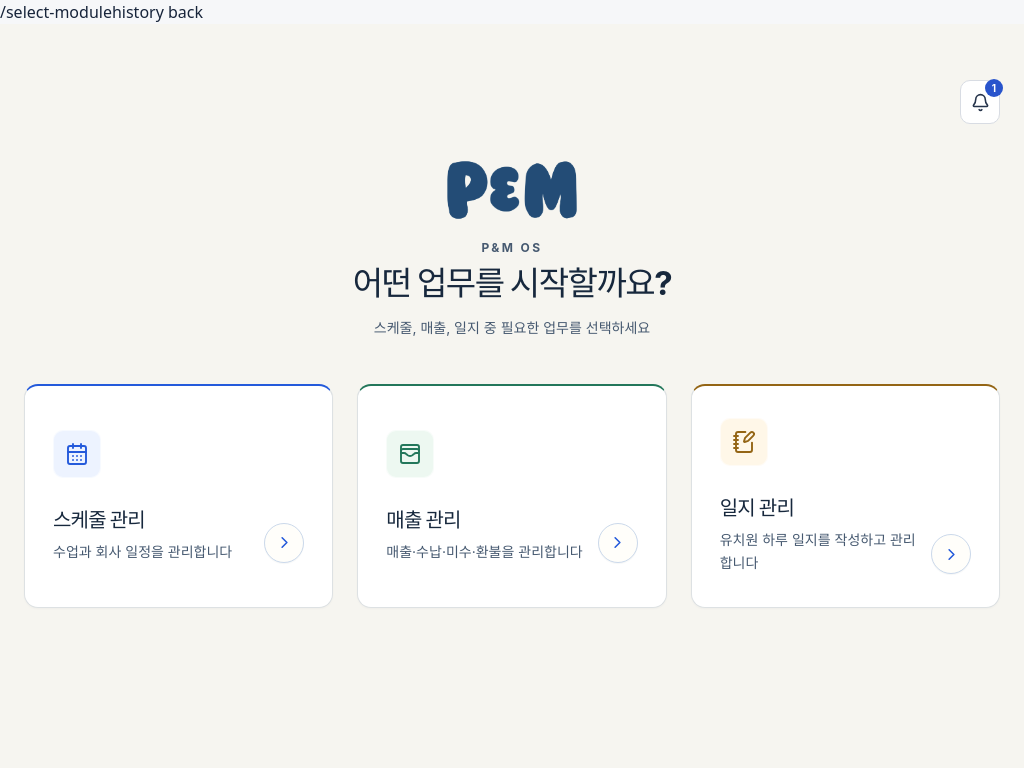
it: read failure preserves Calendar navigation and reports independently
The image size is (1024, 768).
Click the button named "알림센터, 읽지 않은" at [980, 102], box [960,80,1000,124]
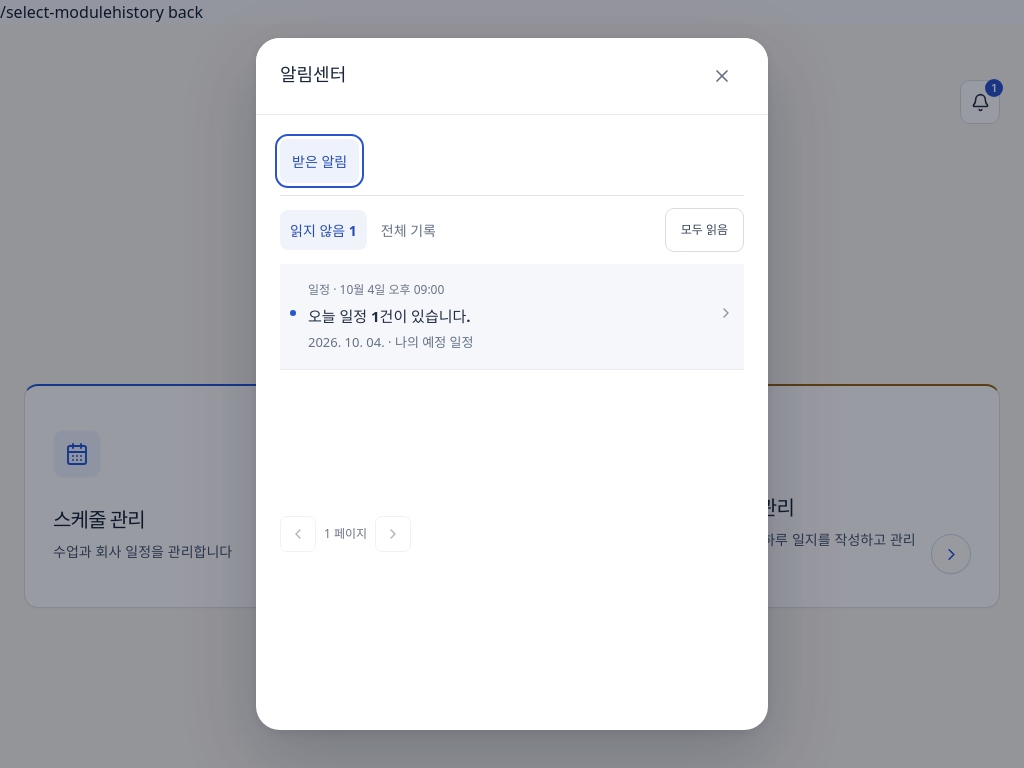
Click the button "오늘 일정 1건" at [392, 290], box [280,264,744,370]
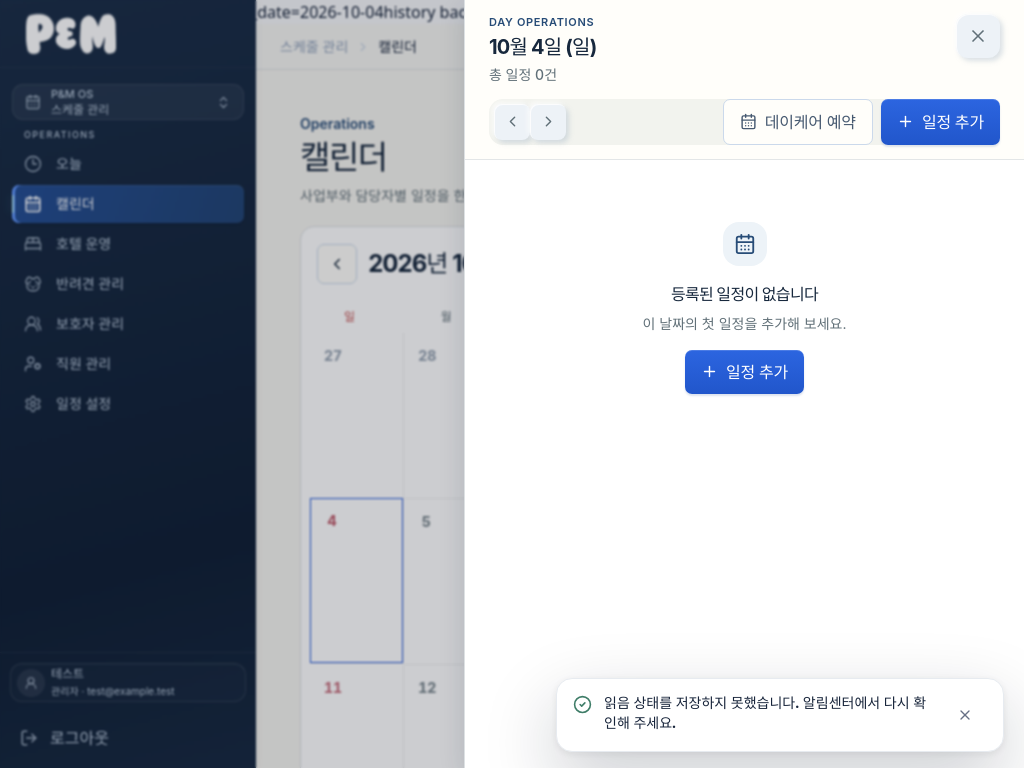
Expected: the text with test id "route" reads "/operations/calendar?notification_date=2026-10-04", [0,1,384,23]
Expected: the dialog "일정" is shown, [464,0,1023,767]
Expected: the text "읽음 상태를 저장하지 못했습니다. 알림센터에서 다시 확인해 주세요." is shown, [604,693,931,733]
